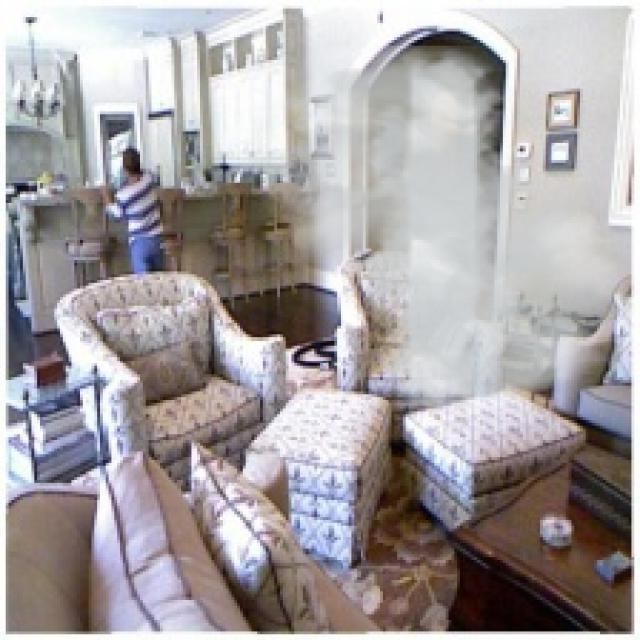Smoke: (254, 46, 632, 414)
